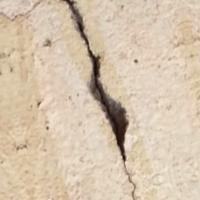crack: (52, 0, 157, 165)
